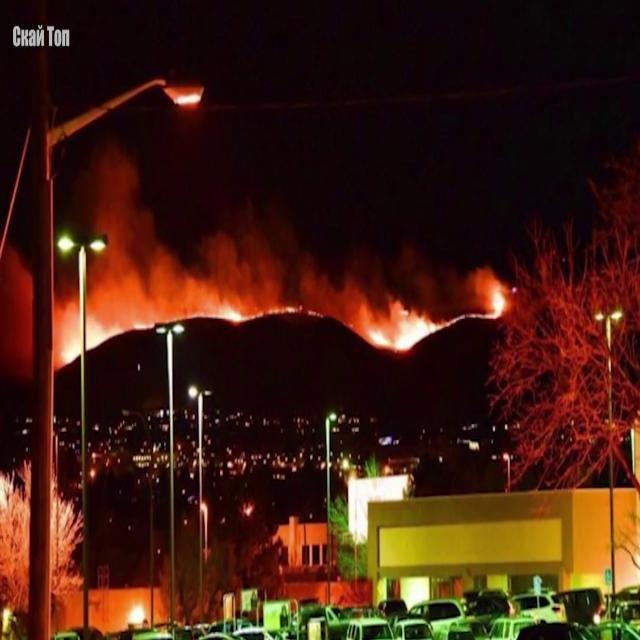Fire: (348, 291, 446, 356)
Smoke: (74, 153, 434, 328)
